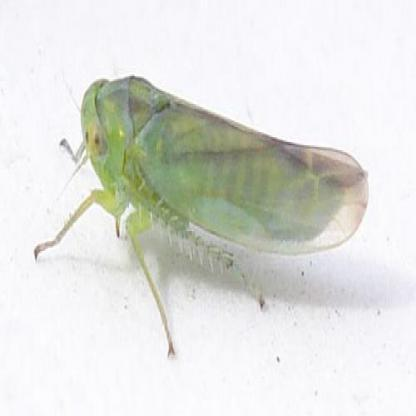green-leafhopper: (34, 75, 368, 357)
